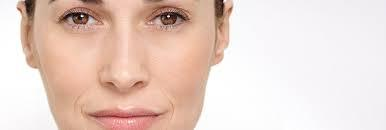Normal-Skin: (44, 2, 206, 126)
